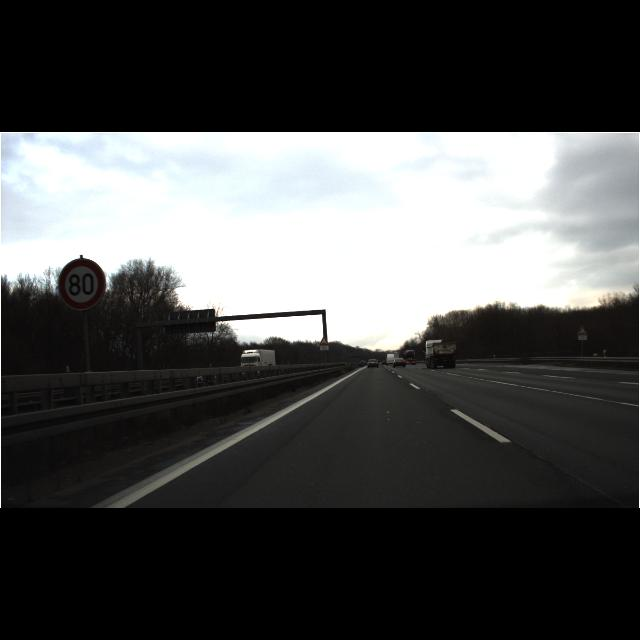danger: (577, 326, 587, 336), (319, 337, 329, 345)
prohibitory: (58, 258, 106, 310)
